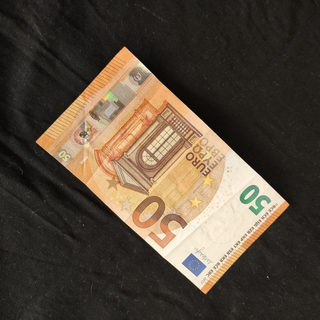50EUROFront: (34, 45, 290, 295)
